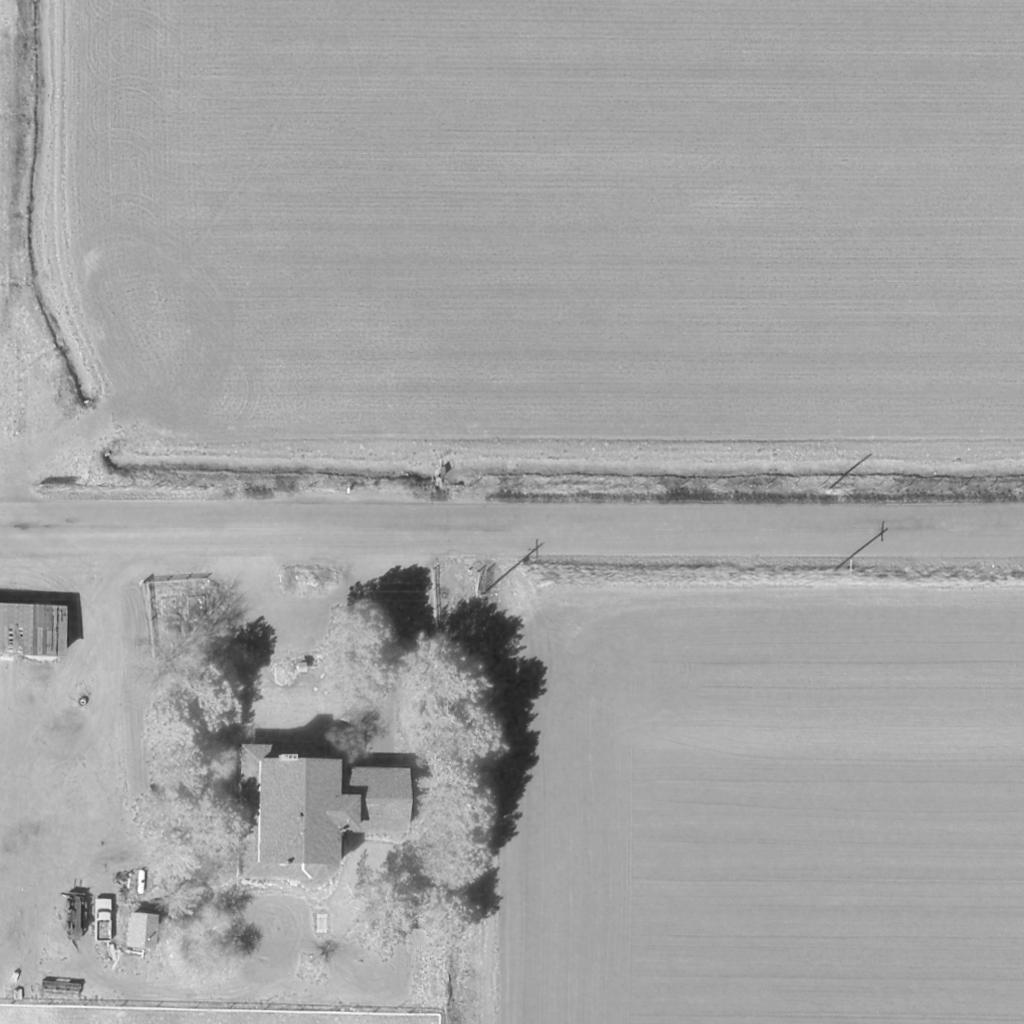vehicle: (93, 896, 117, 948)
